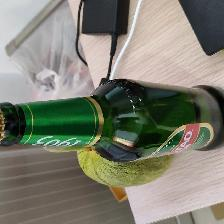gua: (81, 154, 160, 186)
